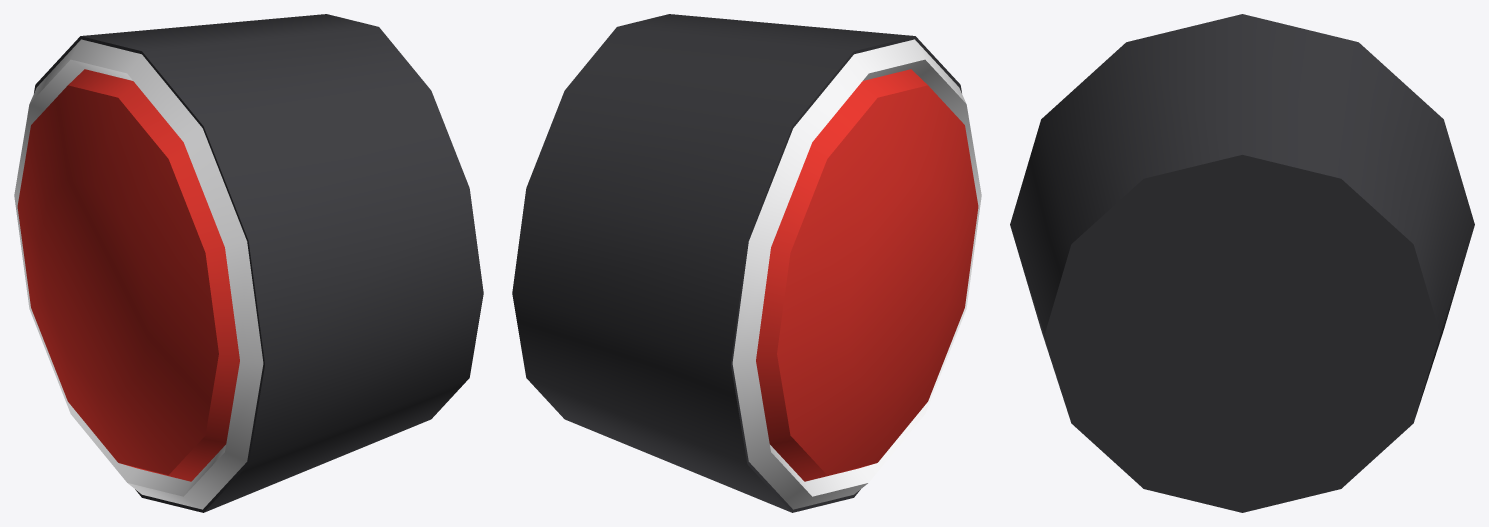
Rendered from round_lod1.glb.
3 views of the same model, side by side, from view 1: azimuth 30°, elevation 25°; view 2: azimuth 150°, elevation 25°; view 3: azimuth 270°, elevation 25° (orthographic). The views are drawn at different scales.
Visible parts, largest first — view 1: round_lod1; view 2: round_lod1; view 3: round_lod1.
Part boxes in pixels (<box>): round_lod1: <box>14,14,483,512</box>; round_lod1: <box>512,14,981,512</box>; round_lod1: <box>1010,14,1474,512</box>.
Size of the model in its own units: 0.048 by 0.072 by 0.072.
